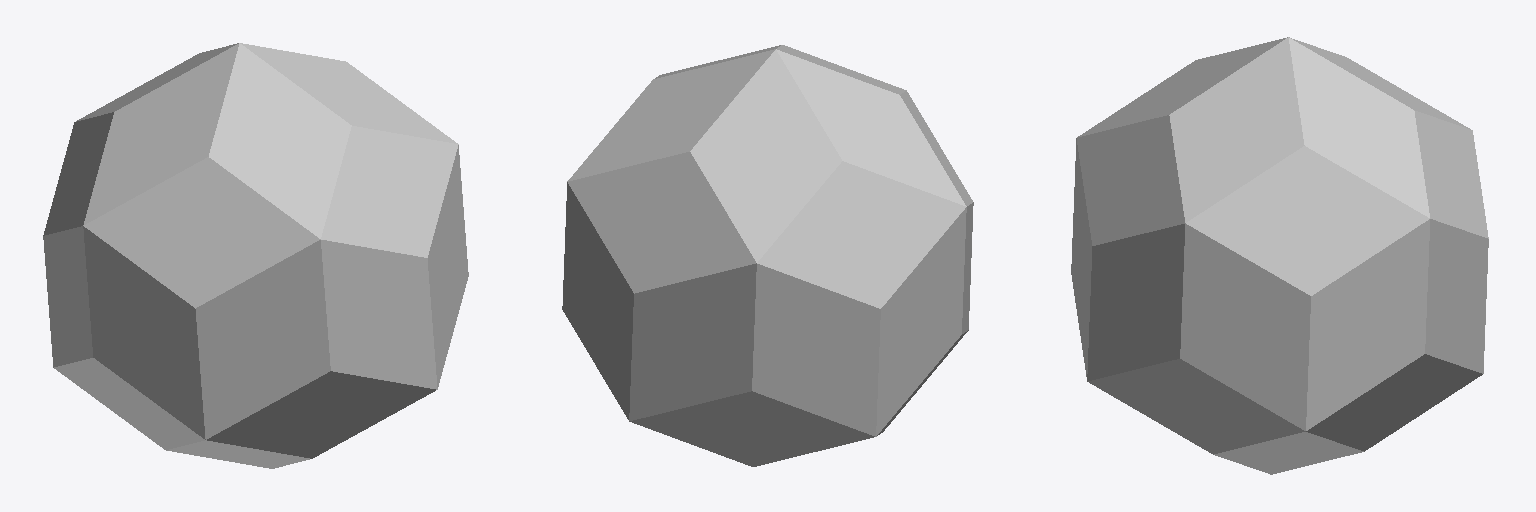
The model's file is RhombicTriaContahedron.obj.
3 views of the same model, side by side, from view 1: azimuth 30°, elevation 25°; view 2: azimuth 150°, elevation 25°; view 3: azimuth 270°, elevation 25° (orthographic).
Parts seen in each view (by area): view 1: RhombicTriaContahedron; view 2: RhombicTriaContahedron; view 3: RhombicTriaContahedron.
Boxes of the visible parts, x1,y1,x2,y2 form: RhombicTriaContahedron: [43, 43, 468, 468]; RhombicTriaContahedron: [562, 45, 973, 466]; RhombicTriaContahedron: [1071, 37, 1488, 474].
Size of the model in its own units: 2.21 by 2.42 by 2.15.